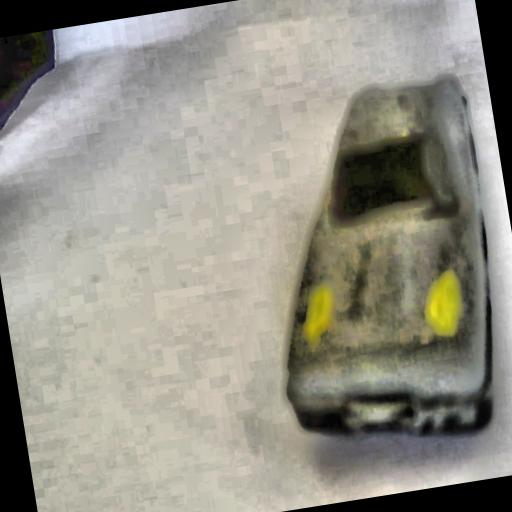normal_car: (235, 57, 512, 470)
